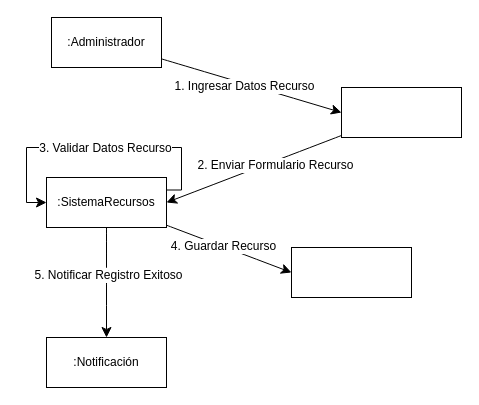
The diagram is 479 pixels wide and 405 high, and some of its shapes have lost their labels. Each missing label, with the centre of its shape:
":BD_Recursos" belongs at pixel 351 272.
":UI_RegistroRecurso" belongs at pixel 401 112.
